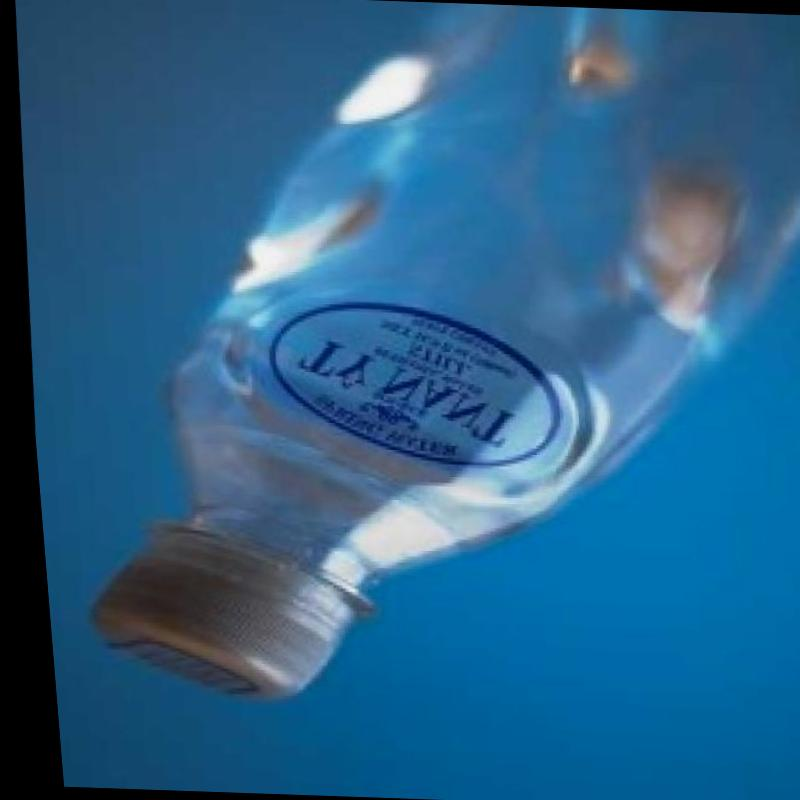botella: (29, 0, 800, 717)
